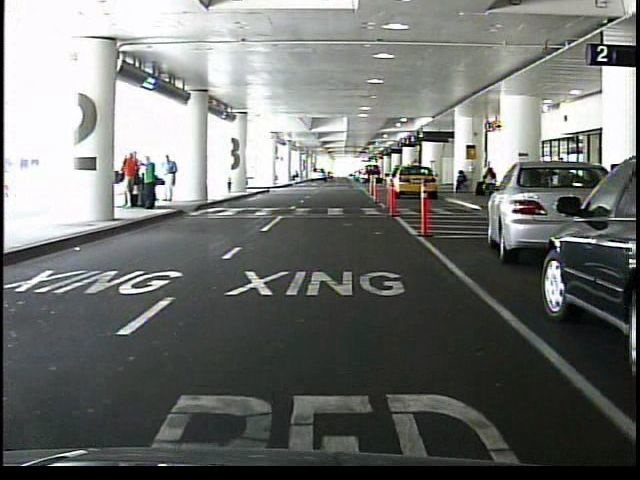person: (142, 155, 160, 211), (164, 154, 180, 204), (125, 150, 139, 207), (481, 162, 495, 196), (452, 171, 468, 196)
